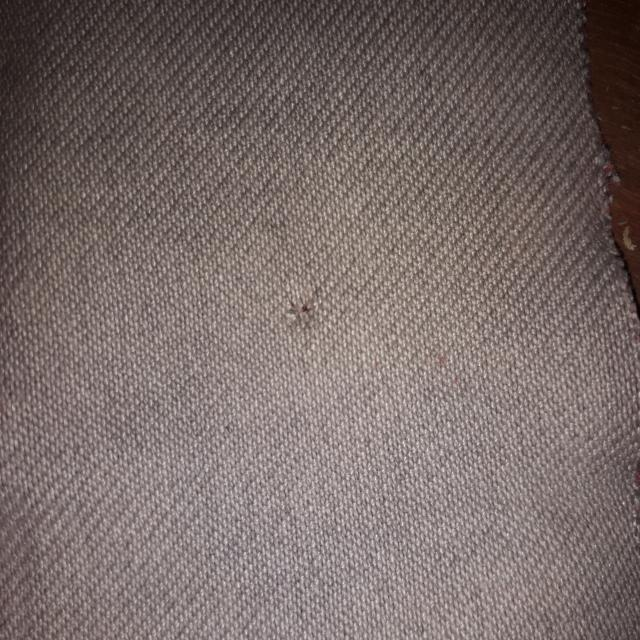seam: (229, 243, 375, 382)
